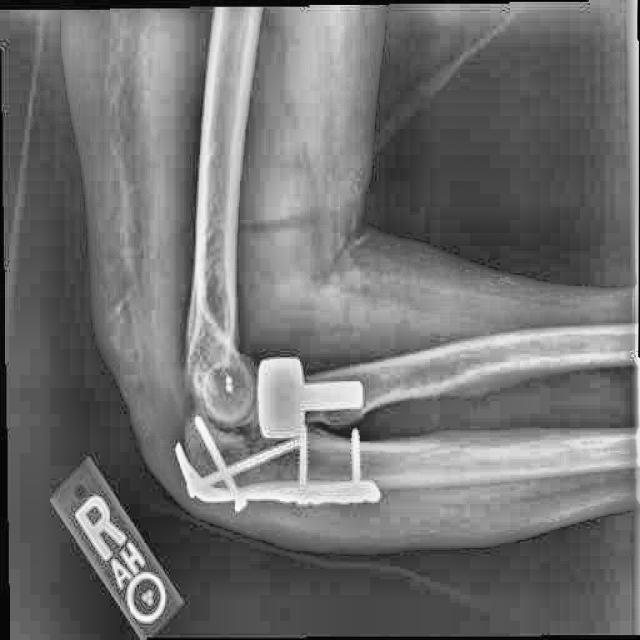elbow positive: (219, 427, 288, 488)
